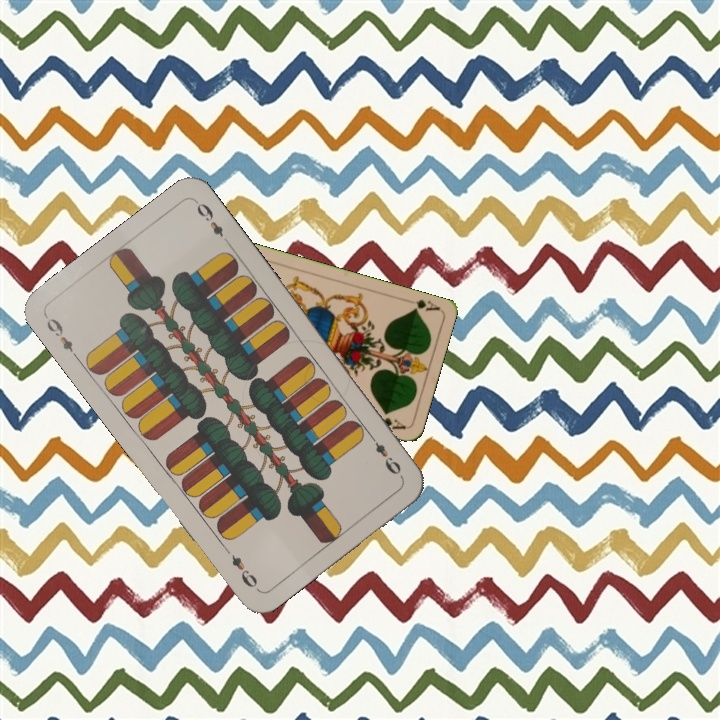E9: (42, 313, 82, 363), (365, 430, 404, 478)
GA: (409, 295, 442, 314)
